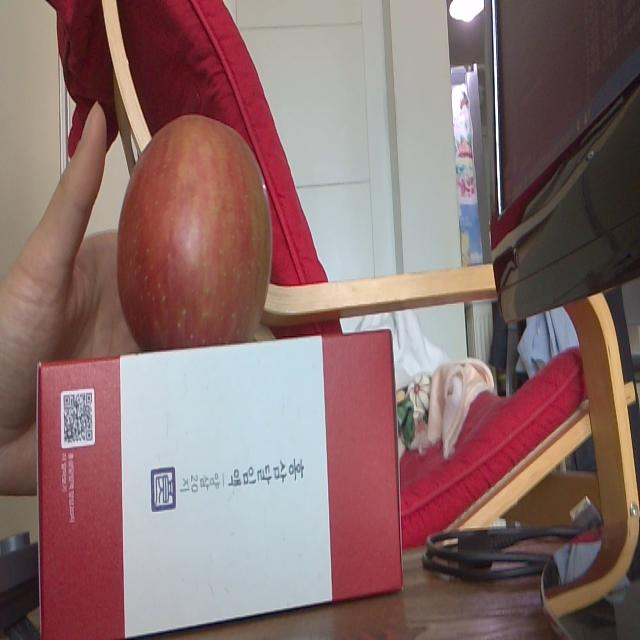apple: (119, 117, 271, 340)
